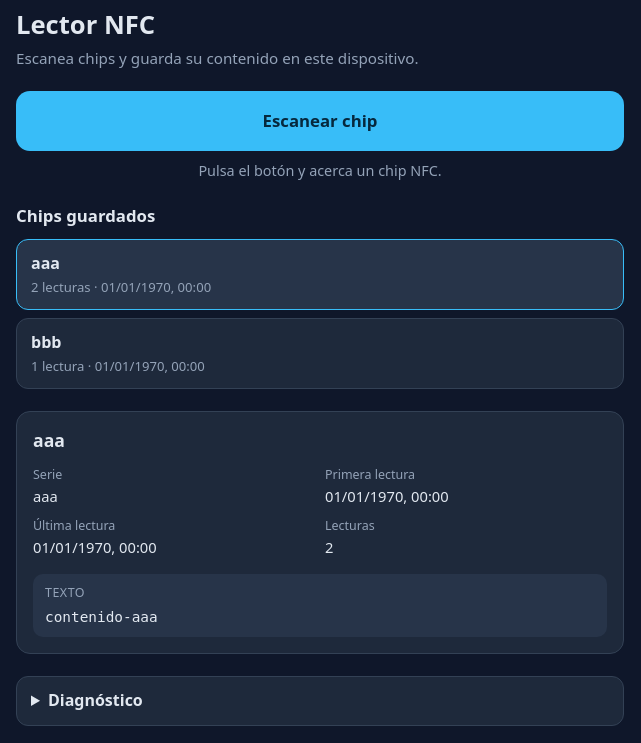
Test: App › shows the records of the selected chip
This screenshot has width=641, height=743.
Check: the text "contenido-aaa" is shown, box [45,609,158,625]
Step 1. Click the text "bbb" → coordinates (46, 342), box [31,331,61,354]
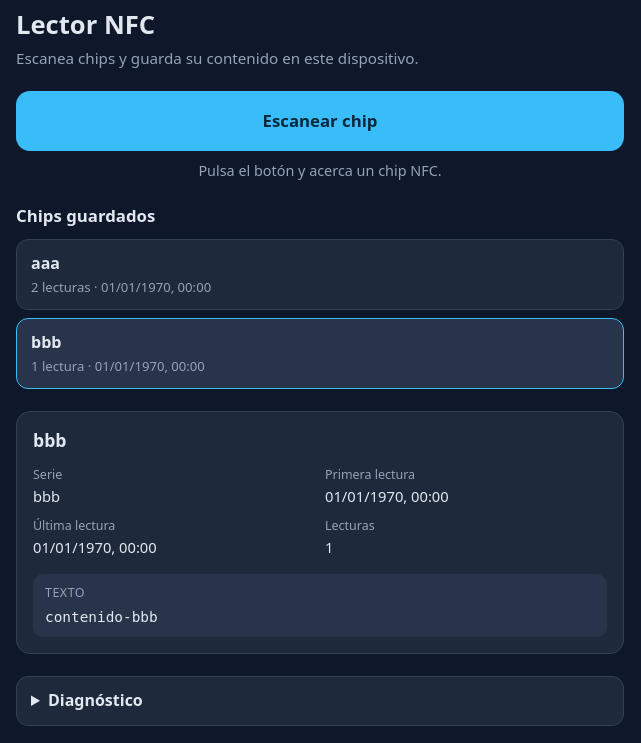
Check: the text "contenido-bbb" is shown, box [45,609,158,625]
